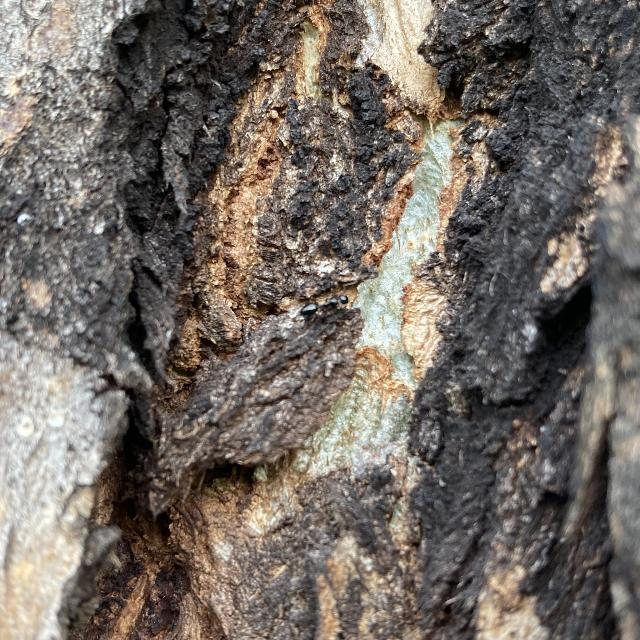Colobopsis: (291, 281, 361, 325)
